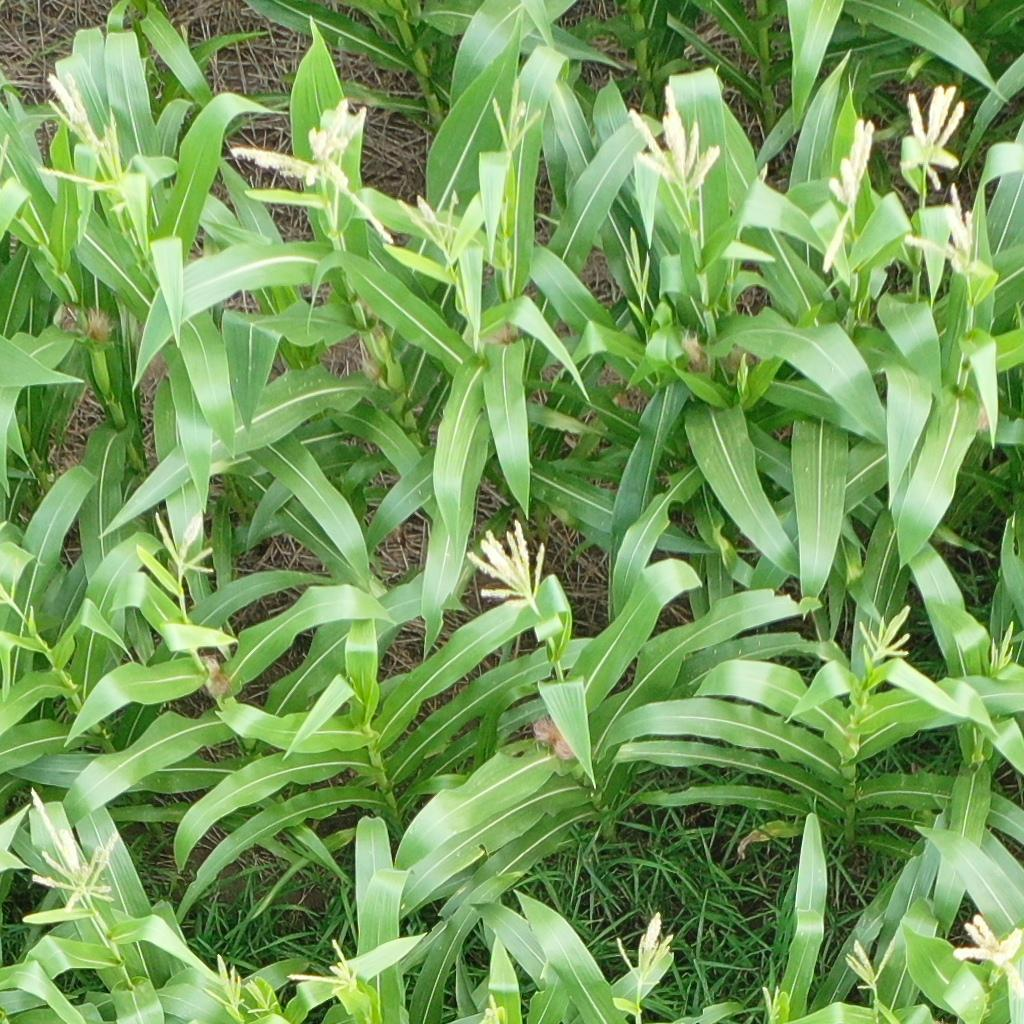Tassel: (228, 98, 397, 244), (32, 72, 138, 213), (23, 786, 122, 918), (624, 85, 722, 207), (822, 115, 876, 276), (462, 520, 546, 611), (905, 183, 980, 277), (904, 82, 966, 192), (951, 913, 1024, 994), (614, 909, 678, 989), (398, 191, 462, 269), (487, 77, 541, 159), (153, 509, 216, 576), (287, 938, 361, 992), (857, 604, 915, 660), (844, 932, 897, 993), (199, 952, 245, 1010), (621, 230, 654, 299), (988, 616, 1017, 674), (245, 977, 279, 1014), (757, 984, 787, 1024), (1, 556, 21, 607), (477, 994, 503, 1024), (734, 351, 750, 391)
